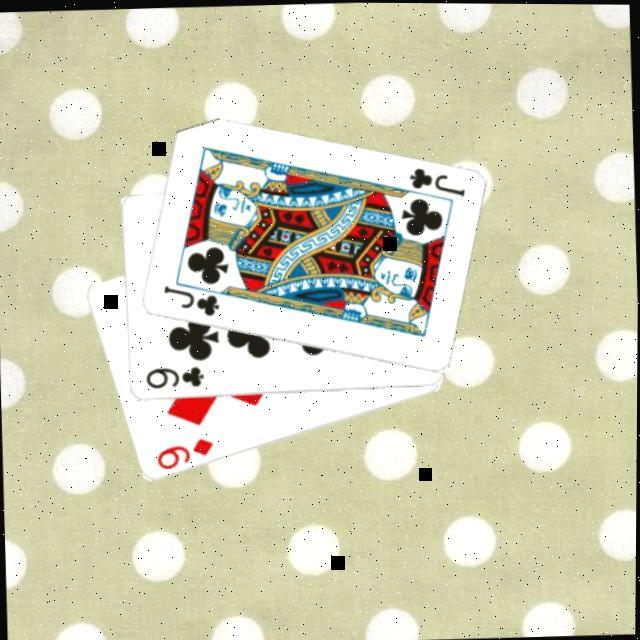9C: (140, 361, 205, 390)
9D: (151, 432, 215, 470)
JC: (402, 160, 465, 199), (158, 278, 219, 318)
